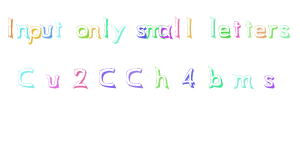2: (71, 67, 88, 89)
4: (180, 66, 195, 88)
C: (15, 67, 35, 88), (125, 68, 144, 88), (98, 67, 116, 88)
I: (4, 15, 20, 39)
a: (158, 24, 172, 38)
b: (207, 65, 224, 88)
e: (217, 23, 232, 38), (253, 24, 267, 38)
h: (154, 66, 170, 89)
l: (209, 15, 217, 39), (185, 17, 194, 38), (102, 16, 110, 38), (174, 16, 181, 39)
m: (231, 73, 254, 89), (144, 23, 161, 39)
n: (15, 24, 30, 39), (88, 23, 101, 39)
o: (75, 24, 89, 38)
p: (27, 24, 43, 45)
r: (267, 24, 278, 39)
s: (279, 24, 291, 38), (263, 74, 275, 88), (135, 24, 146, 38)
t: (231, 19, 241, 38), (244, 20, 253, 38), (54, 20, 61, 38)
u: (45, 74, 60, 88), (40, 24, 53, 38)
y: (110, 24, 126, 44)
